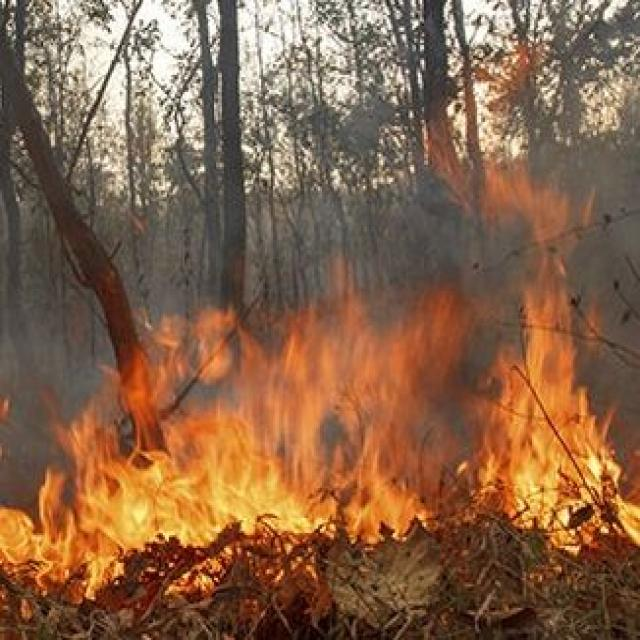Fire: (0, 306, 432, 598), (478, 169, 622, 560)
